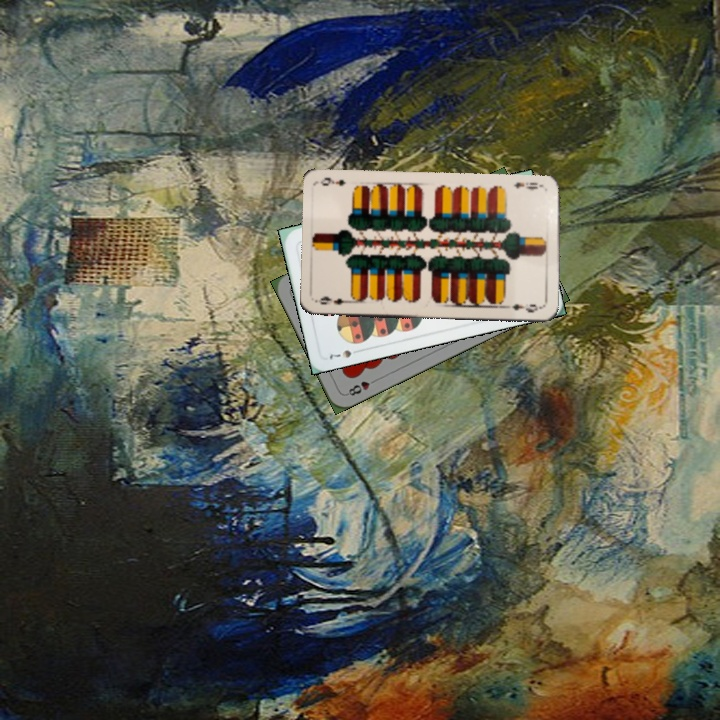E9: (315, 292, 355, 307), (510, 178, 546, 192)
H8: (343, 374, 380, 398)
S7: (325, 345, 364, 361)
